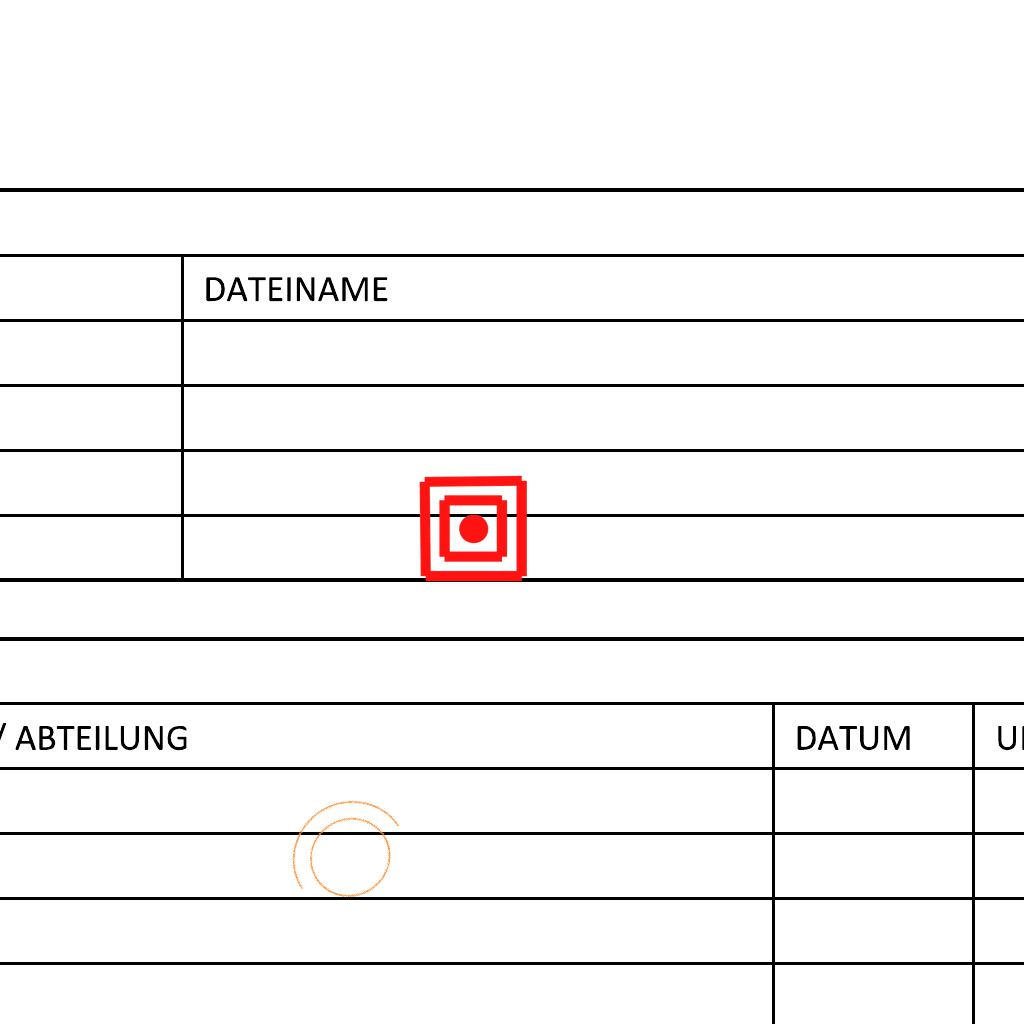NAM-Nichtautomatischer_Melder: (417, 472, 530, 585)
Scheinwerfer_fuer_Alarmbeleuchtung: (259, 772, 431, 938)
